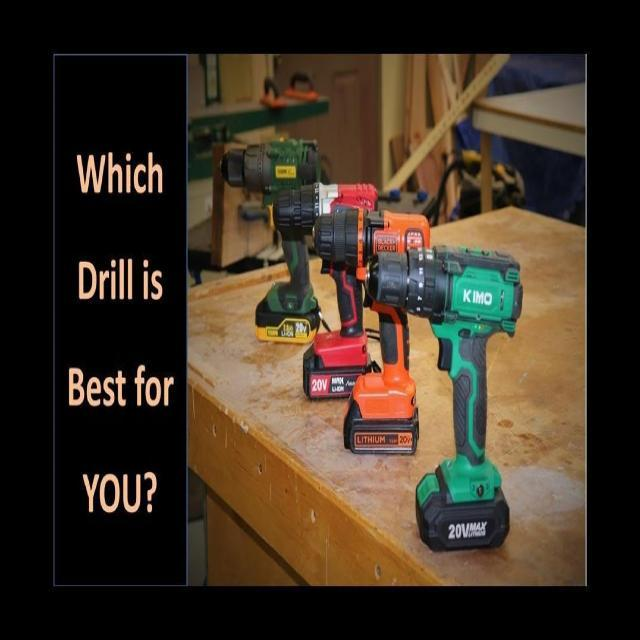drill: (366, 245, 524, 552), (312, 206, 430, 454), (273, 181, 378, 400), (219, 138, 323, 344)
